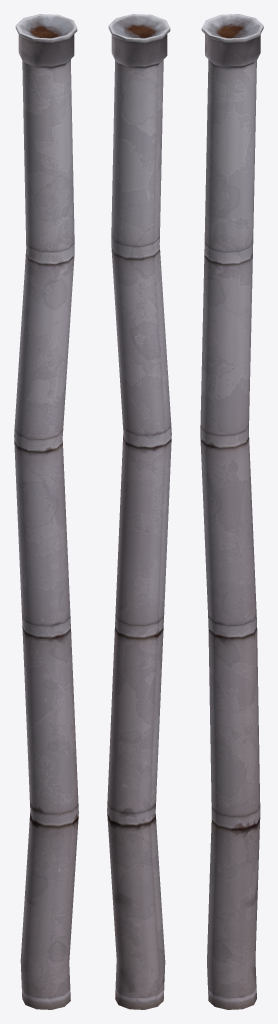
Rendered from PropRoofDrainage01_3.FBX.
3 views of the same model, side by side, from view 1: azimuth 30°, elevation 25°; view 2: azimuth 210°, elevation 25°; view 3: azimuth 330°, elevation 25° (orthographic).
Visible parts, largest first — view 1: PropRoofDrainage01_3; view 2: PropRoofDrainage01_3; view 3: PropRoofDrainage01_3.
Boxes of the visible parts, x1,y1,x2,y2 form: PropRoofDrainage01_3: (14,14,78,1009); PropRoofDrainage01_3: (107,14,171,1009); PropRoofDrainage01_3: (200,14,263,1009).
Size of what is drawn, in the model's own units: 0.2126 by 3.51 by 0.199.
